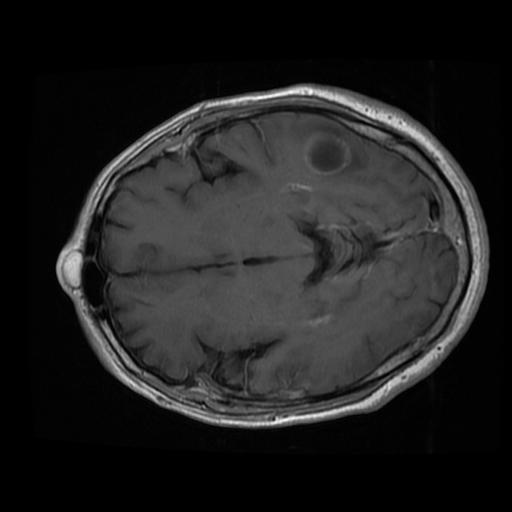glioma: (302, 130, 350, 176)
